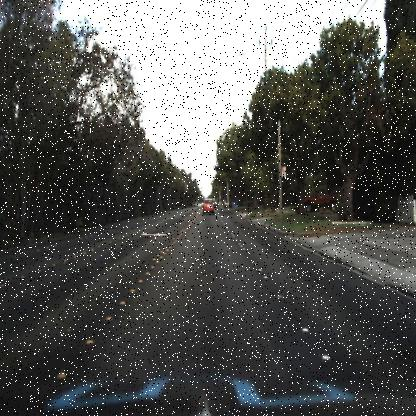car: (300, 186, 345, 212), (304, 188, 340, 212), (200, 192, 216, 222)
